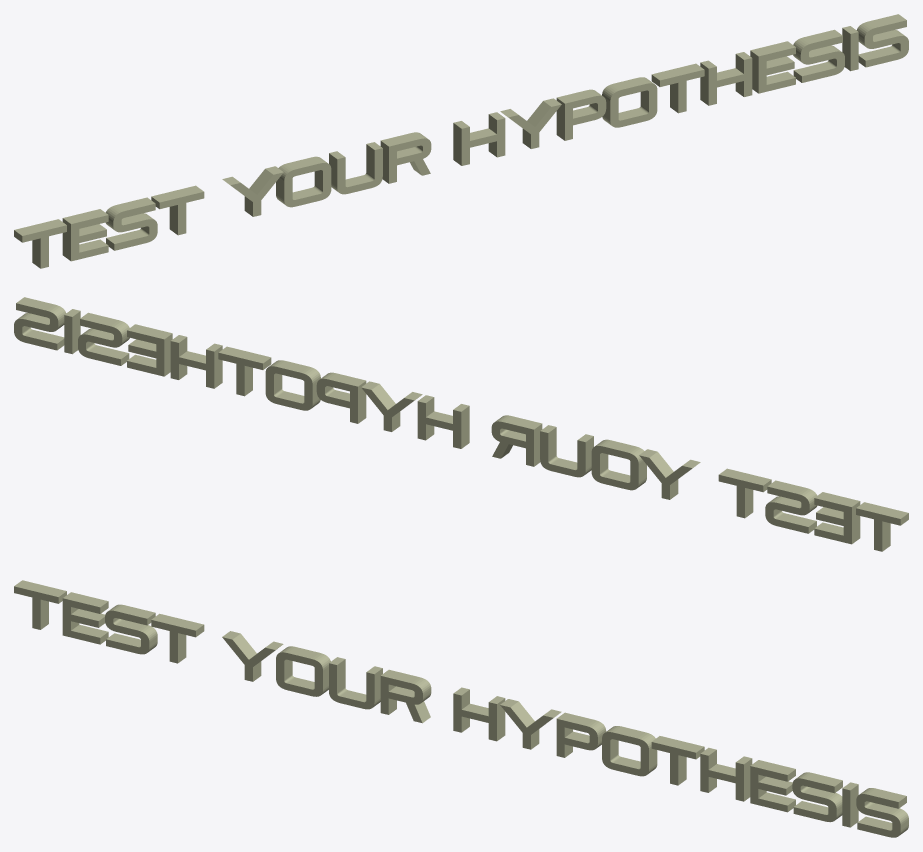
Rendered from TestYourHypothsis.obj.
3 views of the same model, one above another, from view 1: azimuth 30°, elevation 25°; view 2: azimuth 150°, elevation 25°; view 3: azimuth 330°, elevation 25° (orthographic).
Parts seen in each view (by area): view 1: obj_0; view 2: obj_0; view 3: obj_0.
Part boxes in pixels (box(x1,y1,x2,y2)): obj_0: box(14, 14, 908, 268); obj_0: box(14, 297, 908, 551); obj_0: box(14, 580, 908, 837).
Bounding box in the file's own units: 613 × 24.66 × 10.
